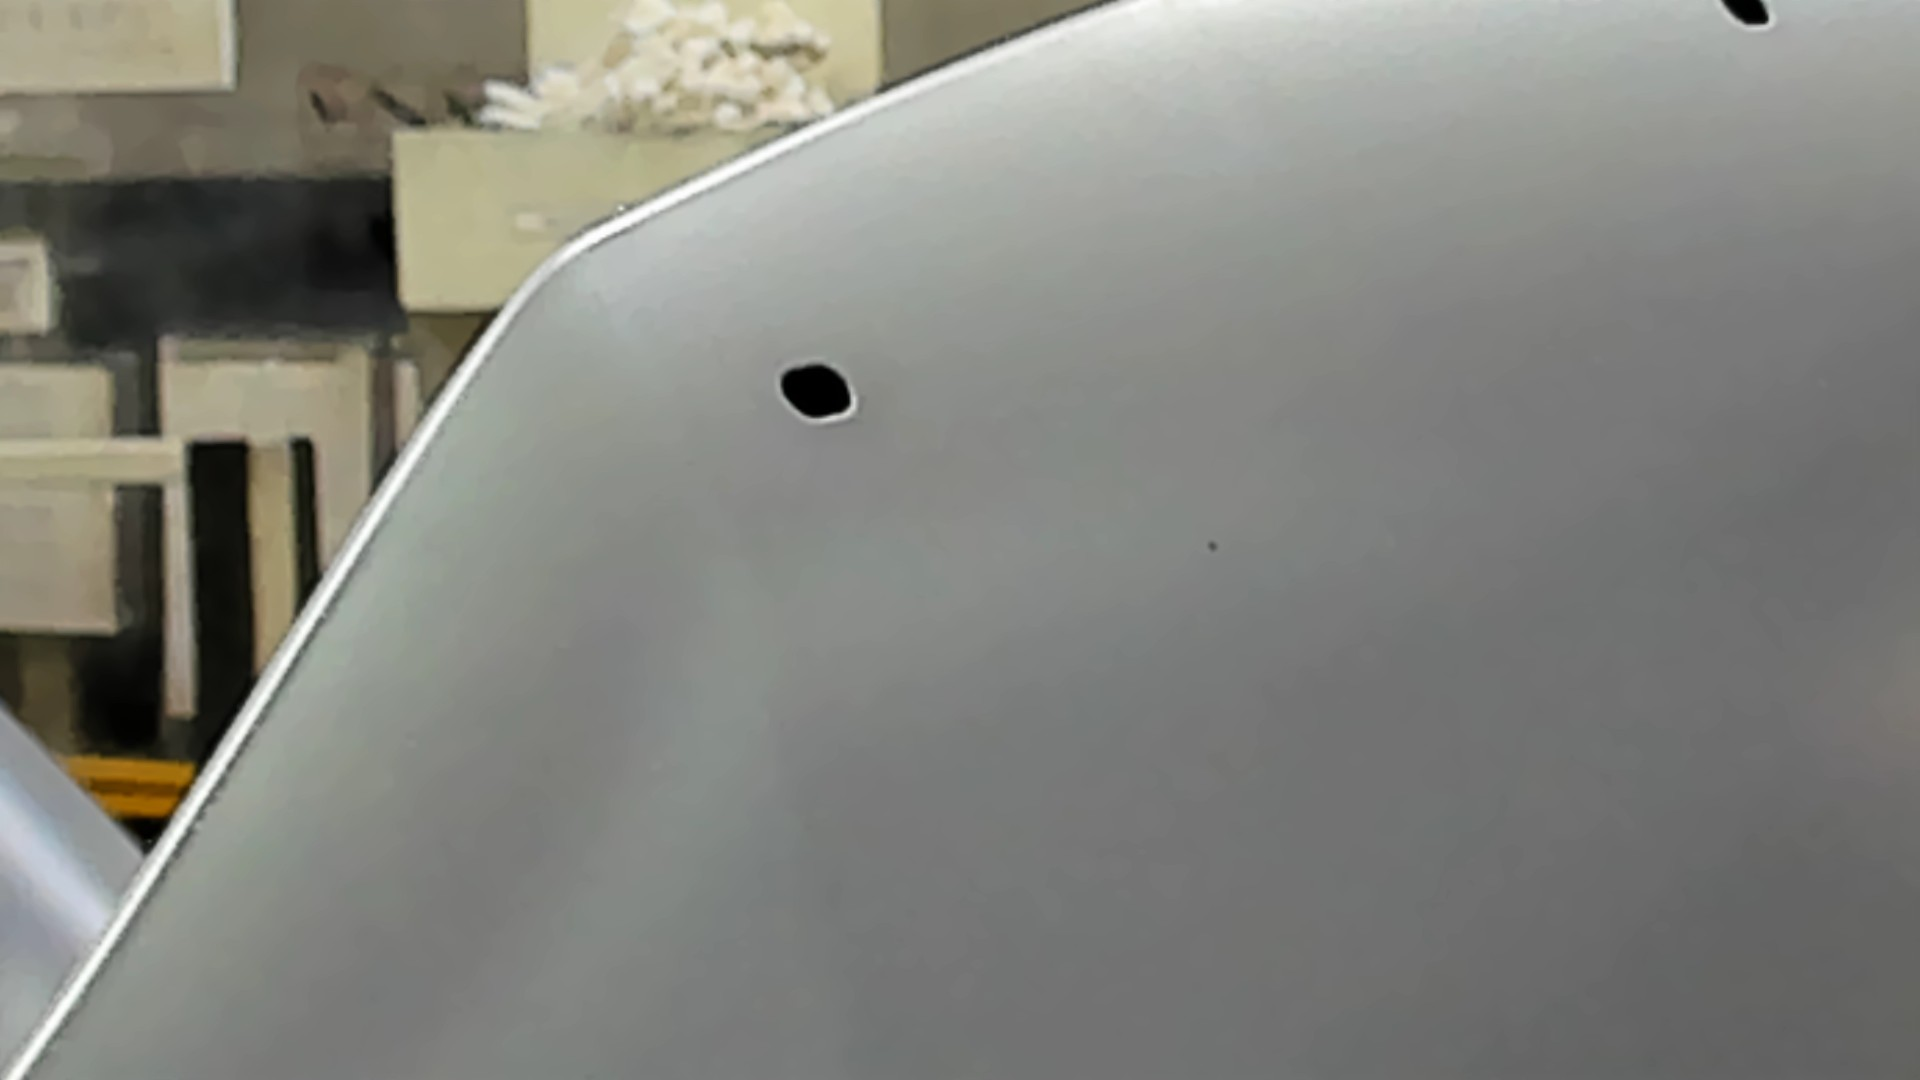amorfo: (771, 355, 864, 427), (1716, 1, 1782, 36)
